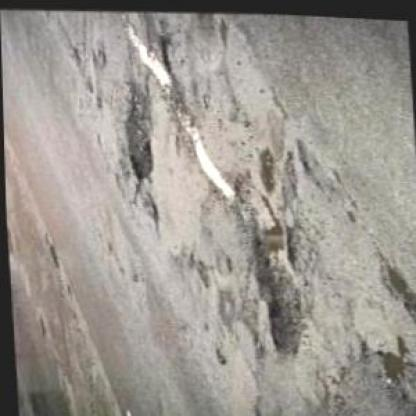pothole: (223, 164, 308, 353), (119, 76, 158, 182), (370, 327, 415, 400), (376, 252, 414, 334)
